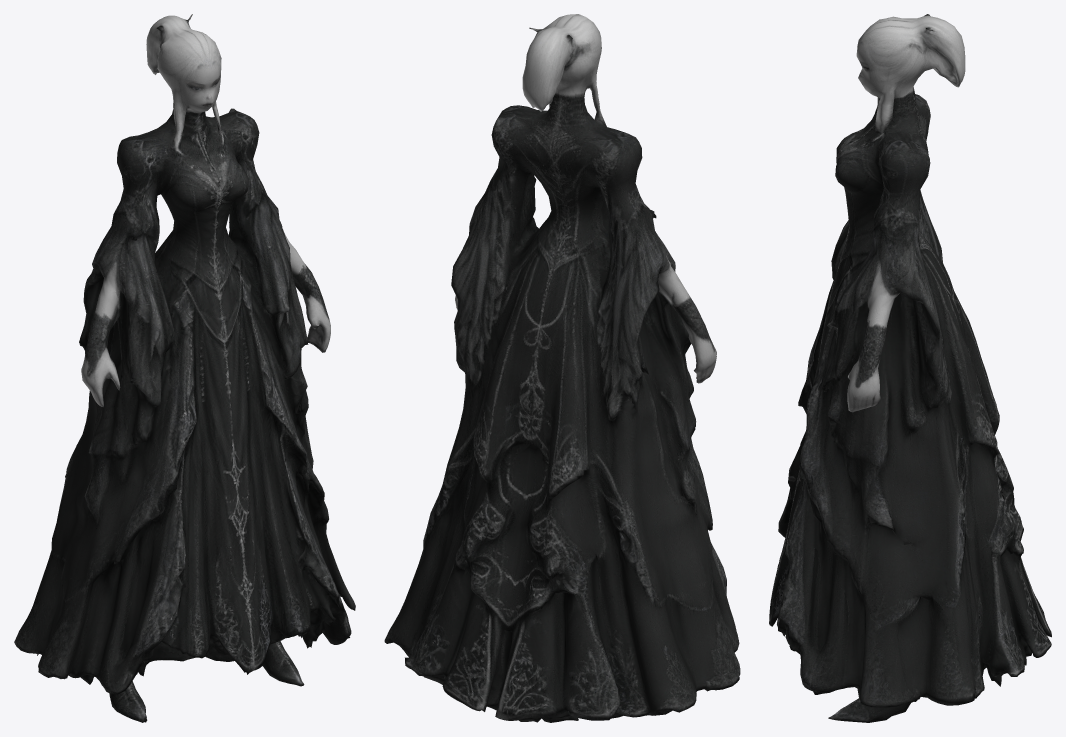
Rendered from vampire-female.glb.
3 views of the same model, side by side, from view 1: azimuth 30°, elevation 25°; view 2: azimuth 150°, elevation 25°; view 3: azimuth 270°, elevation 25° (orthographic). The views are drawn at different scales.
Size of the model in its own units: 0.9867 by 2 by 0.7748.
Materials: 1 (1 with a texture image).
